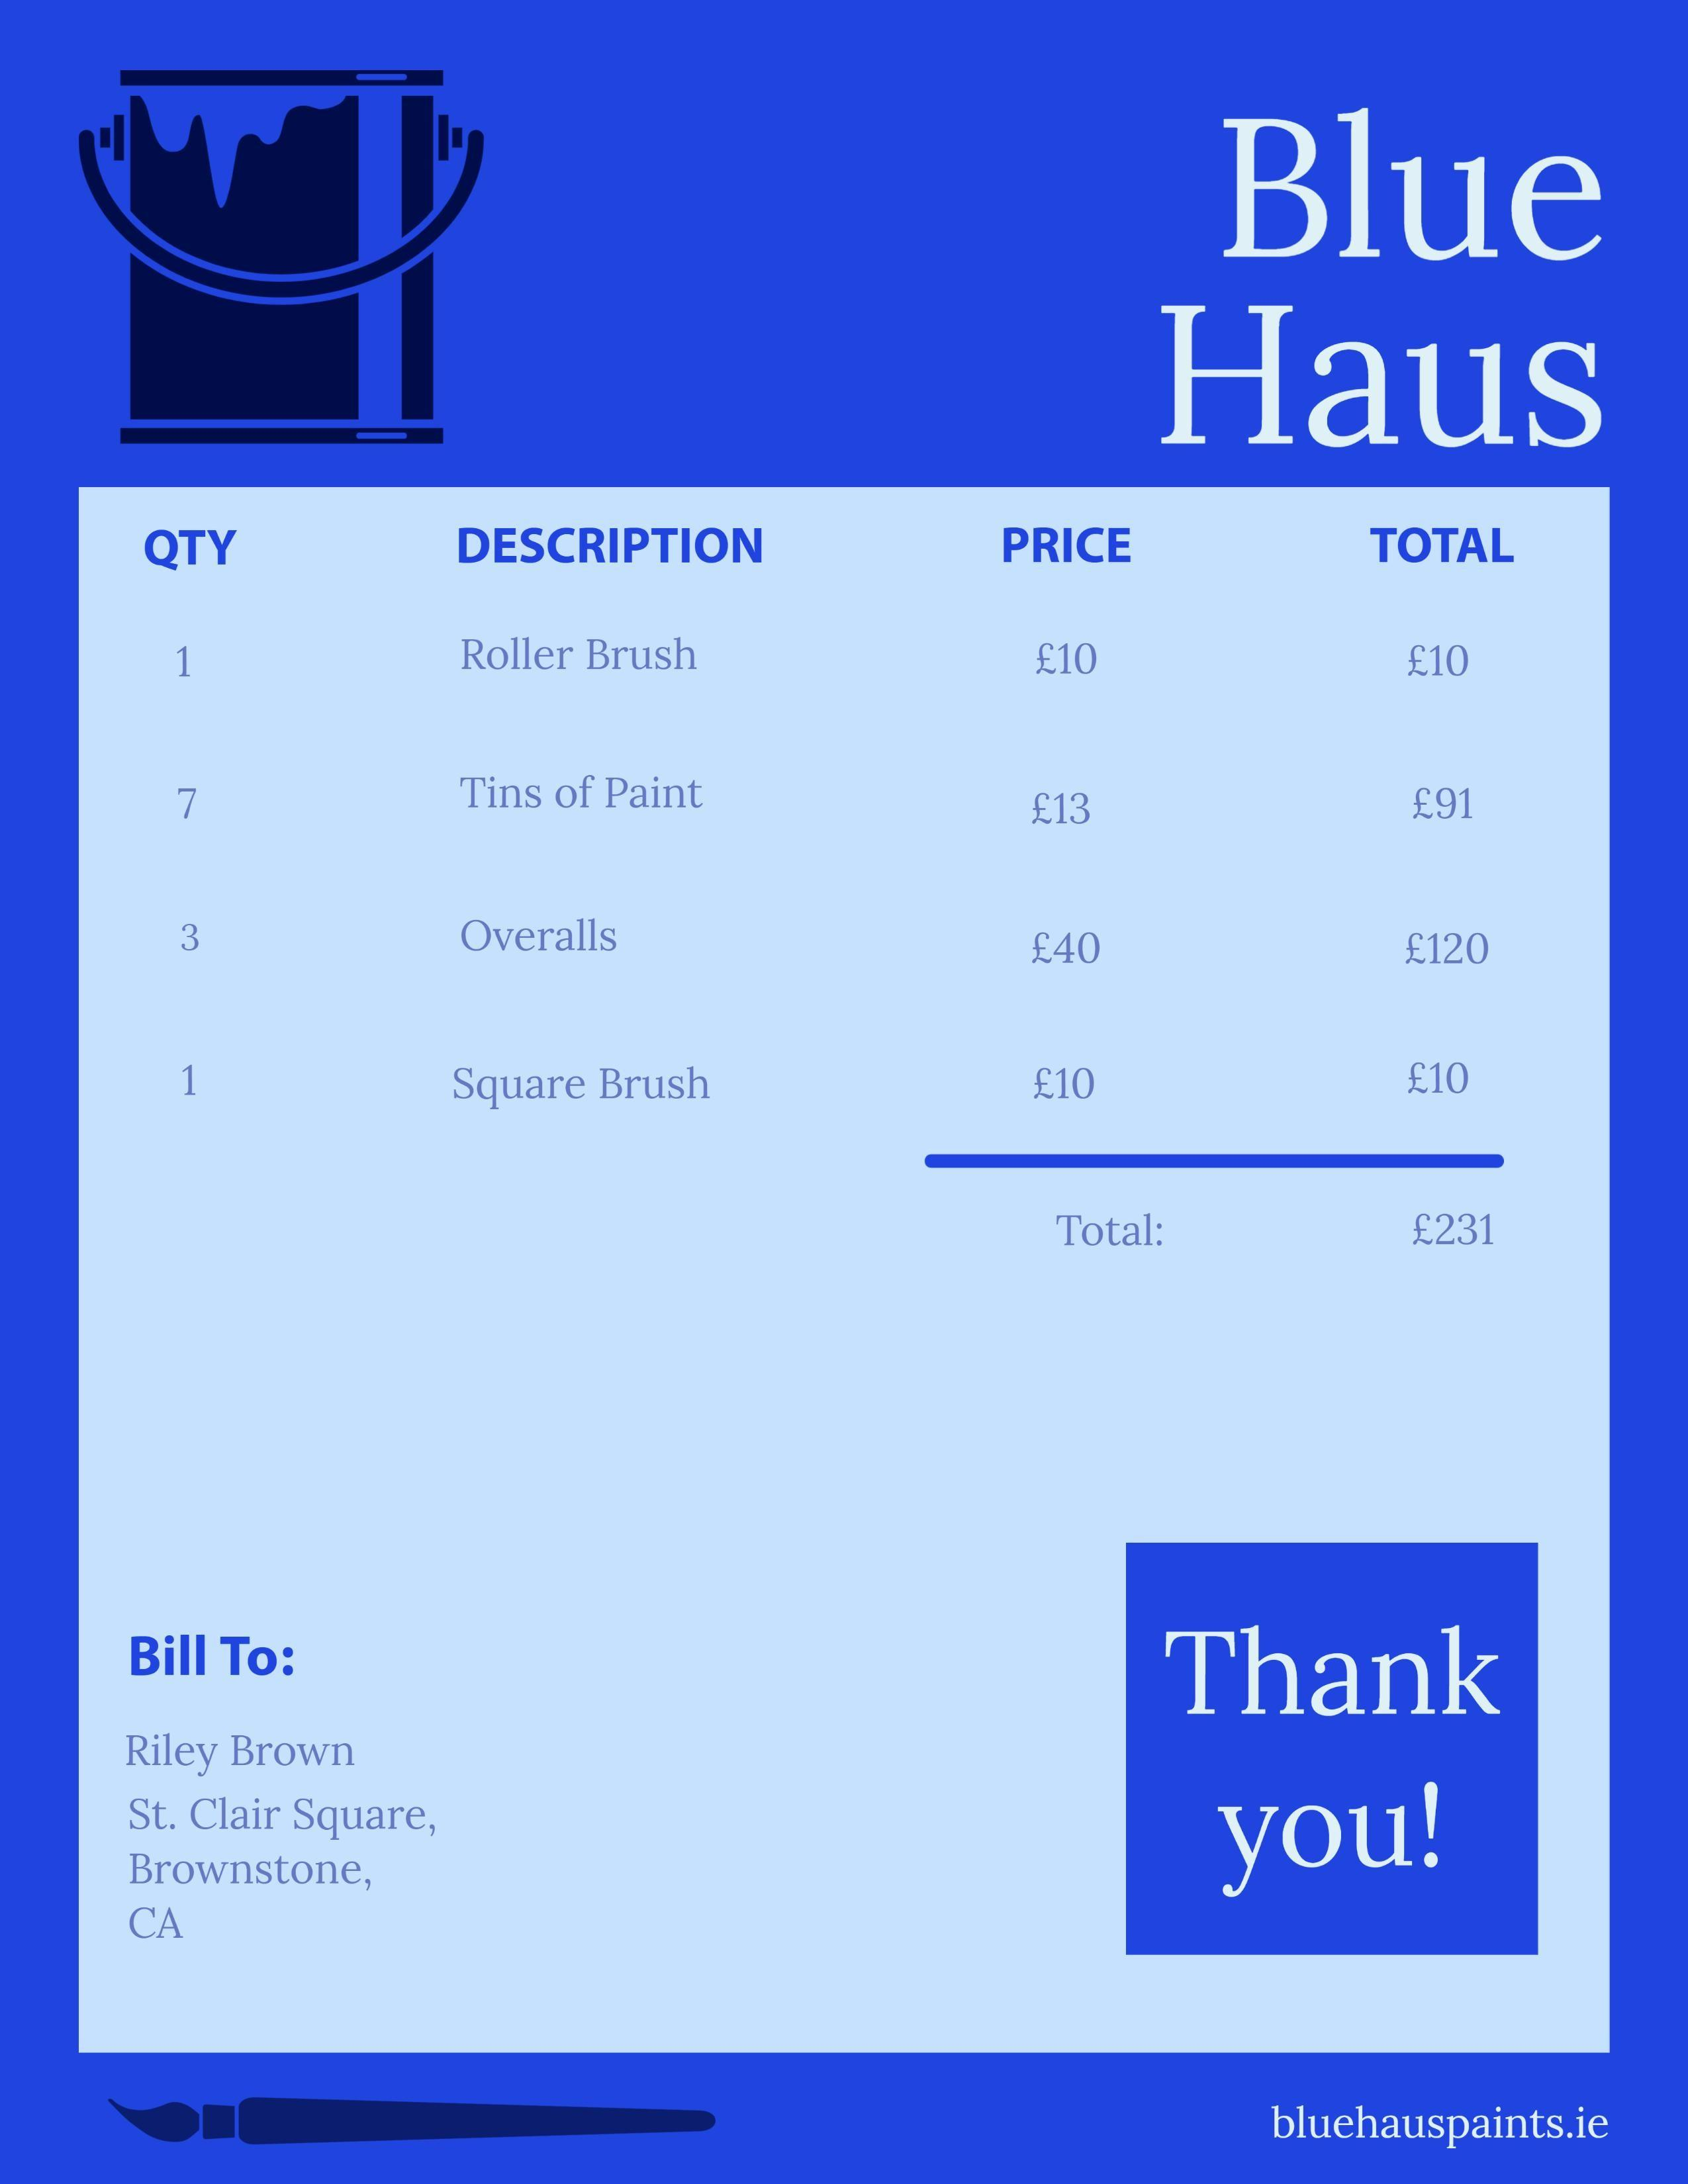ROI: (133, 523, 1539, 1135), (1149, 89, 1622, 463), (112, 1611, 470, 1955), (1055, 1198, 1502, 1257)
